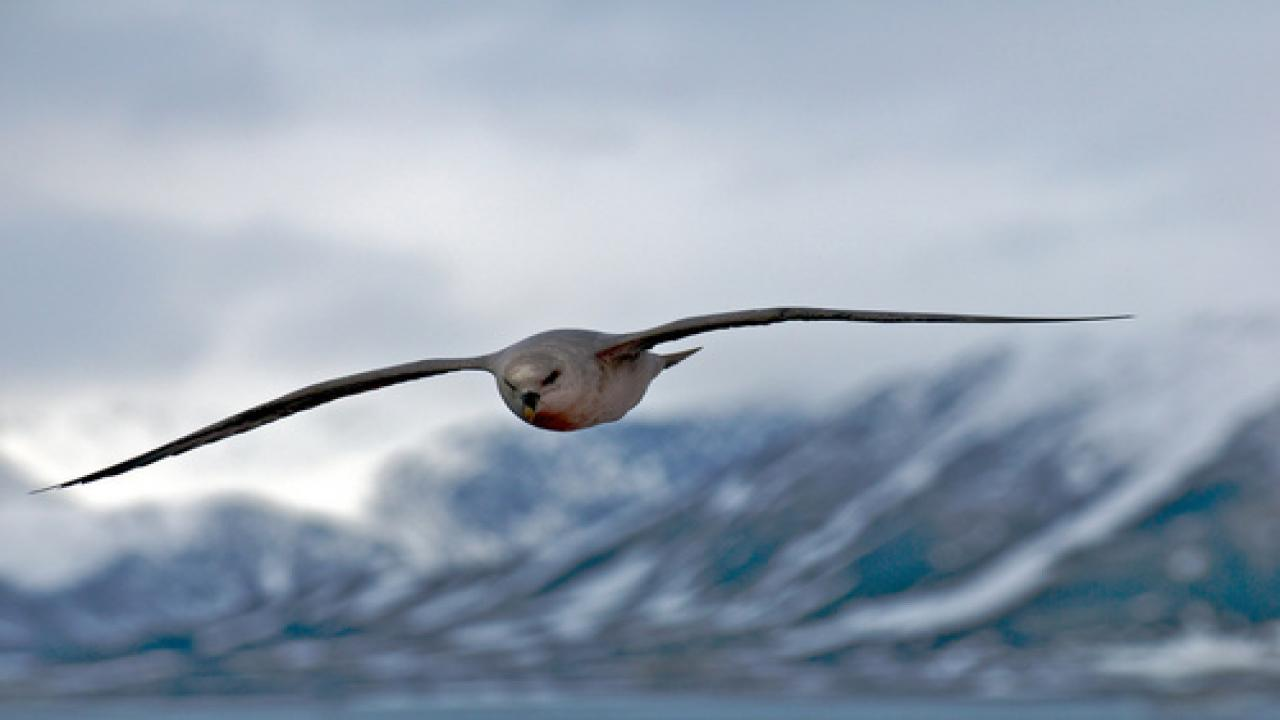Bird: (16, 293, 1153, 508)
